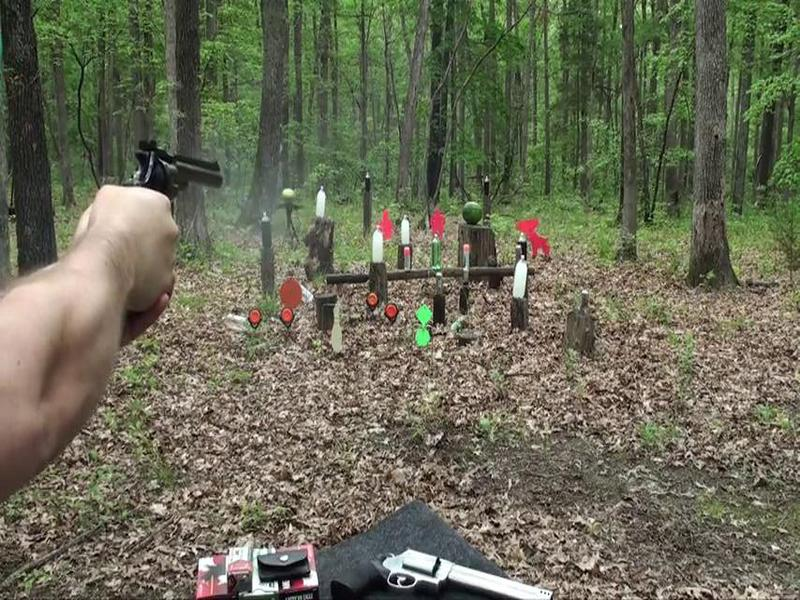Revolver: (121, 129, 232, 231)
